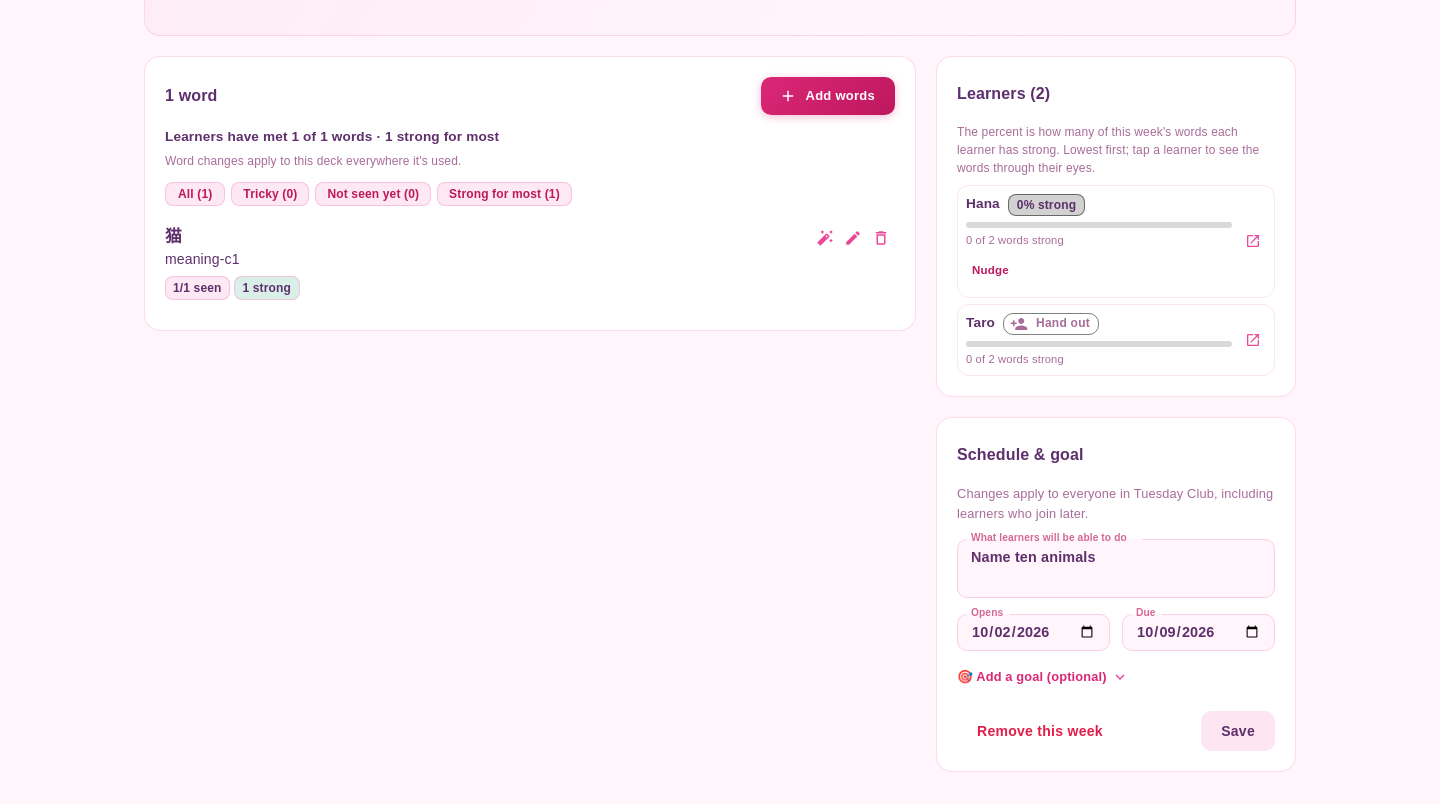
Test case: HandoutPage › saves settings with a confirmation toast
(page scrolled)
Replace the text in the text box labelled "What learners will be able to do" with "Name twelve animals": (1116, 568) x1=971 y1=547 x2=1261 y2=589
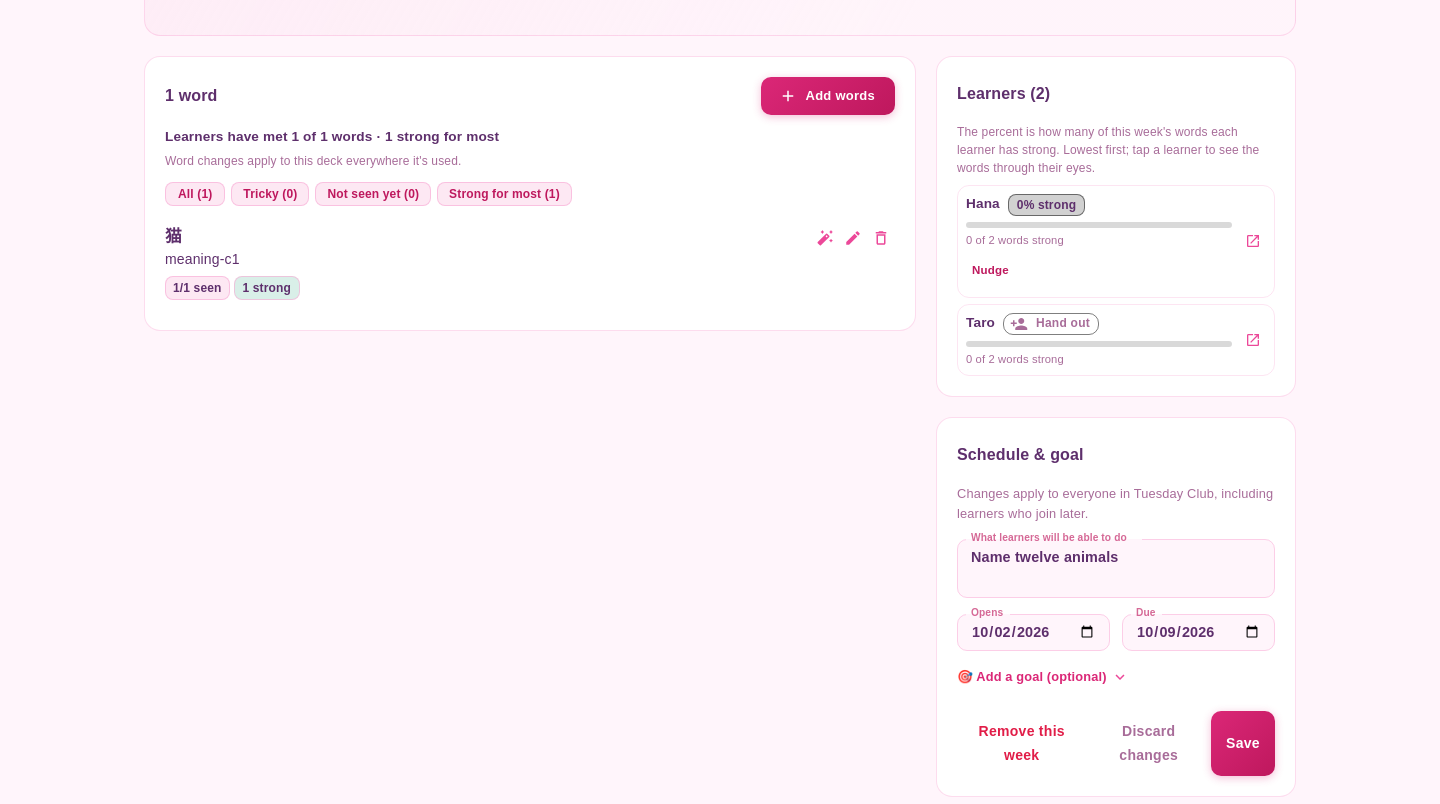
Click the button "Save": click(1243, 743) x1=1211 y1=711 x2=1275 y2=776
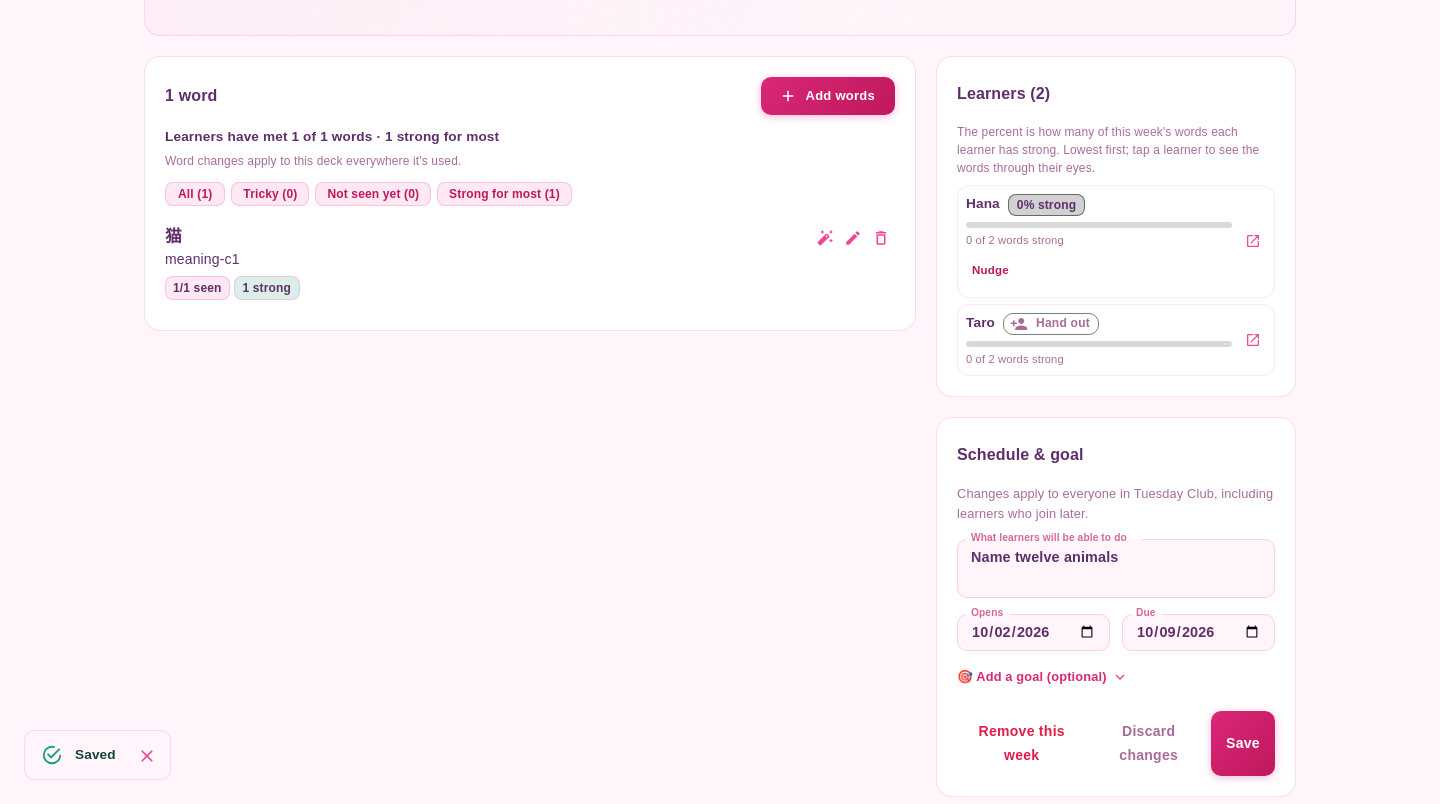
expect the text "Saved" is shown: met, box x1=75 y1=747 x2=116 y2=762
